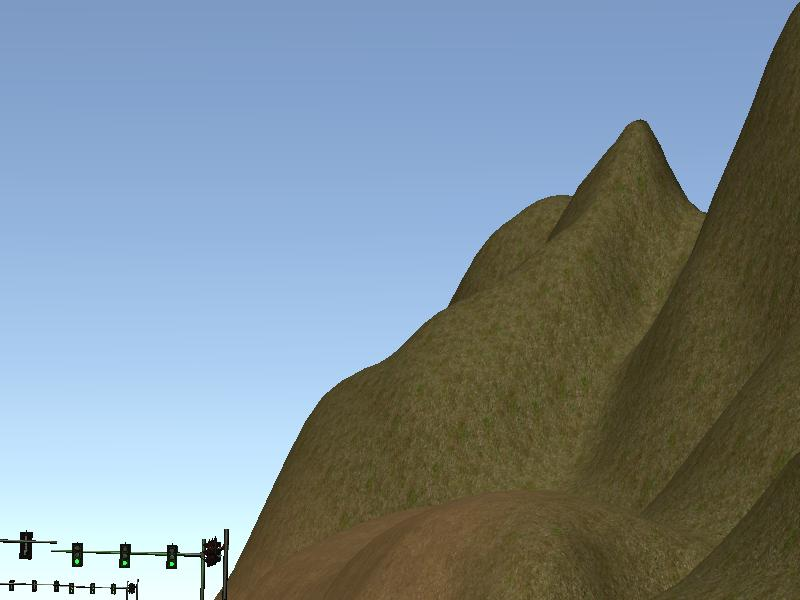Green: (120, 544, 131, 567), (73, 541, 82, 565), (167, 546, 176, 567)
